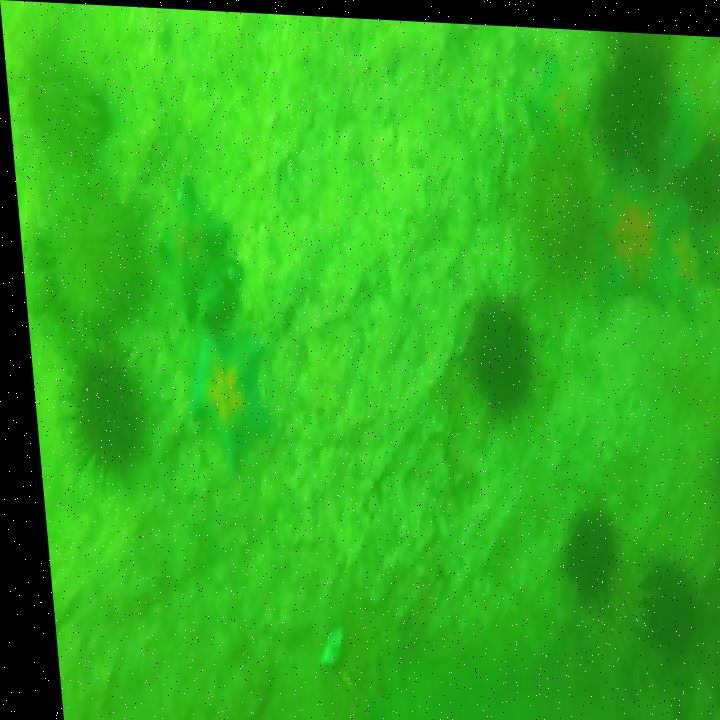echinus: (575, 171, 696, 319), (50, 337, 149, 506), (171, 328, 279, 465), (153, 174, 235, 348), (591, 24, 676, 171), (455, 300, 537, 419), (627, 555, 709, 660), (548, 512, 615, 600), (706, 415, 720, 536)
